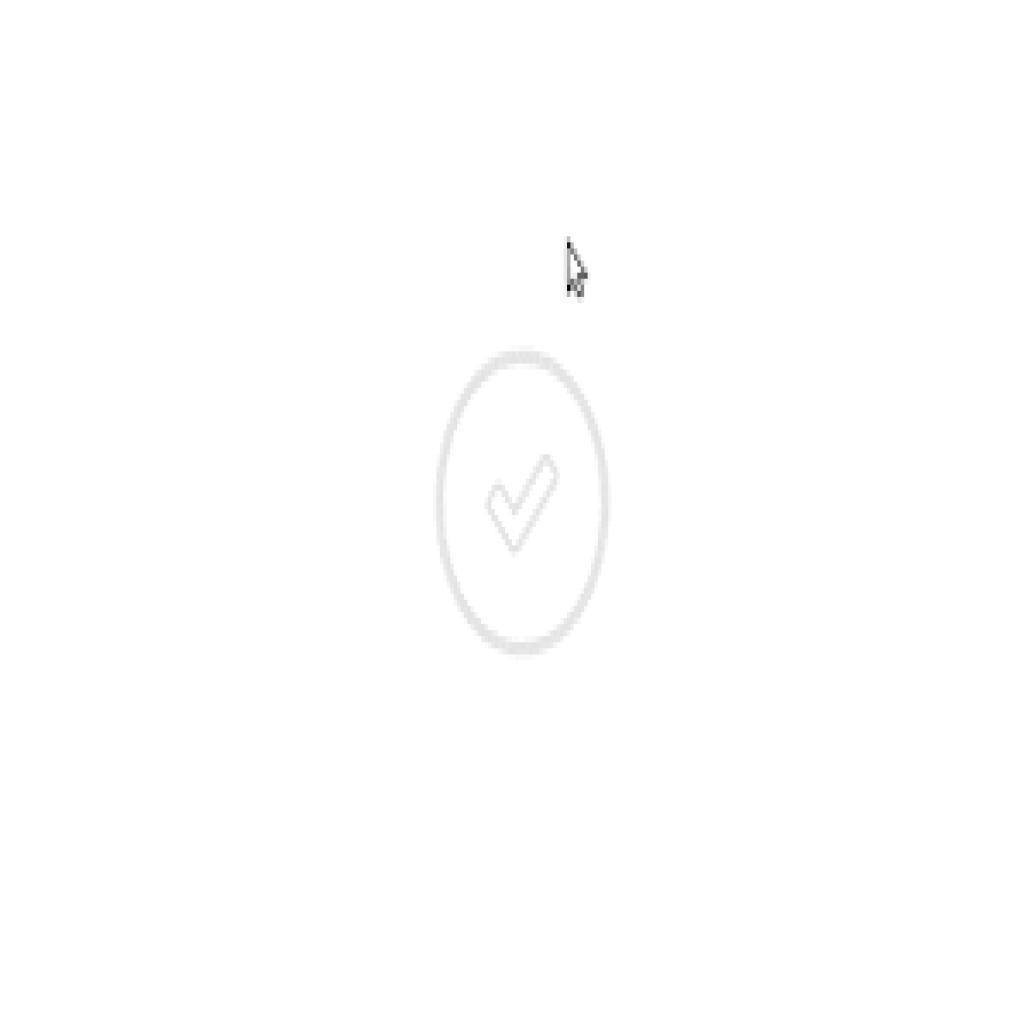checkbox: (425, 337, 621, 671)
